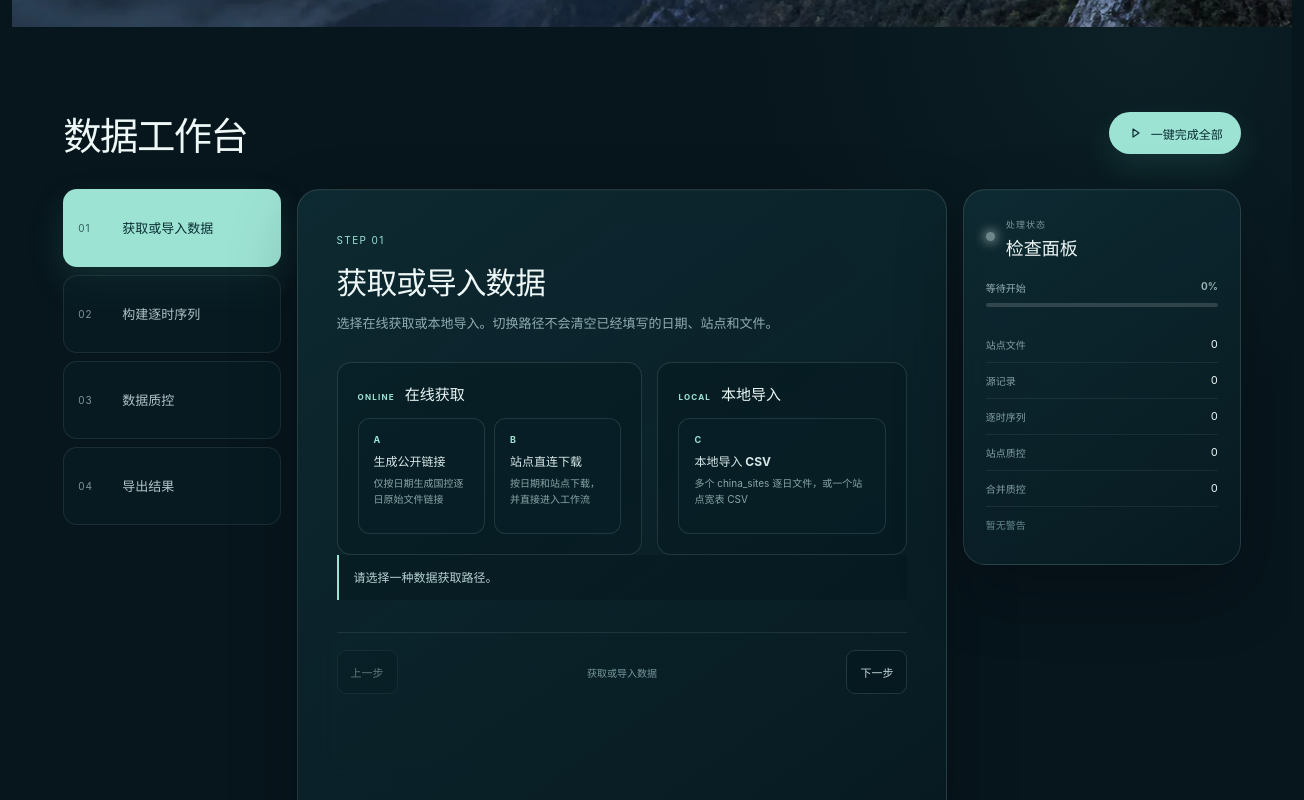
App four-stage shell › opens a future stage with guidance and no hidden execution
This screenshot has width=1304, height=800.
(page scrolled)
Click the button "03 数据质控" at (172, 400), box [63,361,281,439]
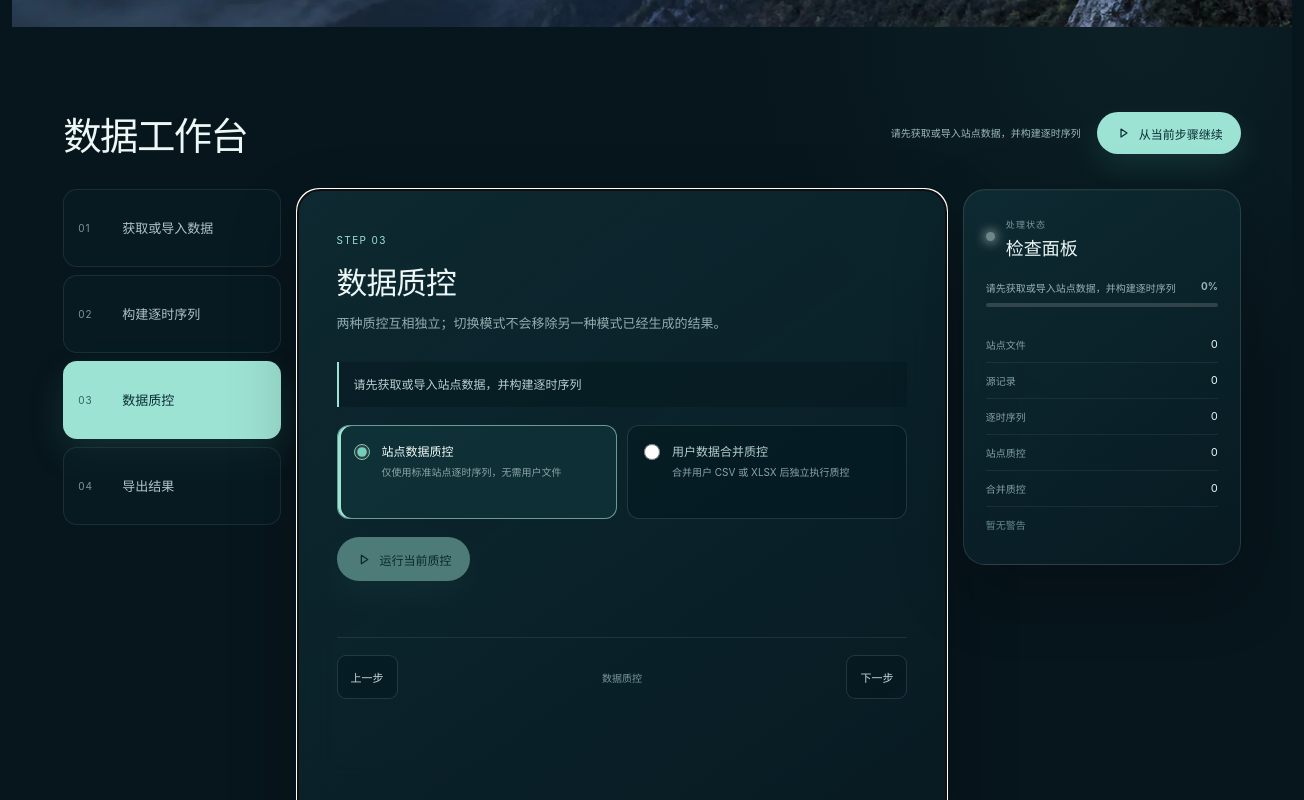
Check: the text "请先获取或导入站点数据，并构建逐时序列" below "两种质控互相独立；切换模式不会移除另一种模式已经生成的结果。" is shown, box [354,377,582,392]
